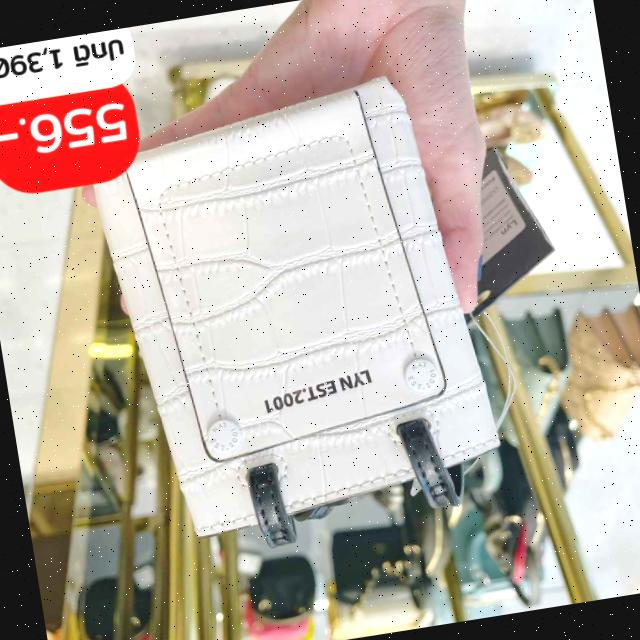Handbag: (61, 62, 532, 568)
